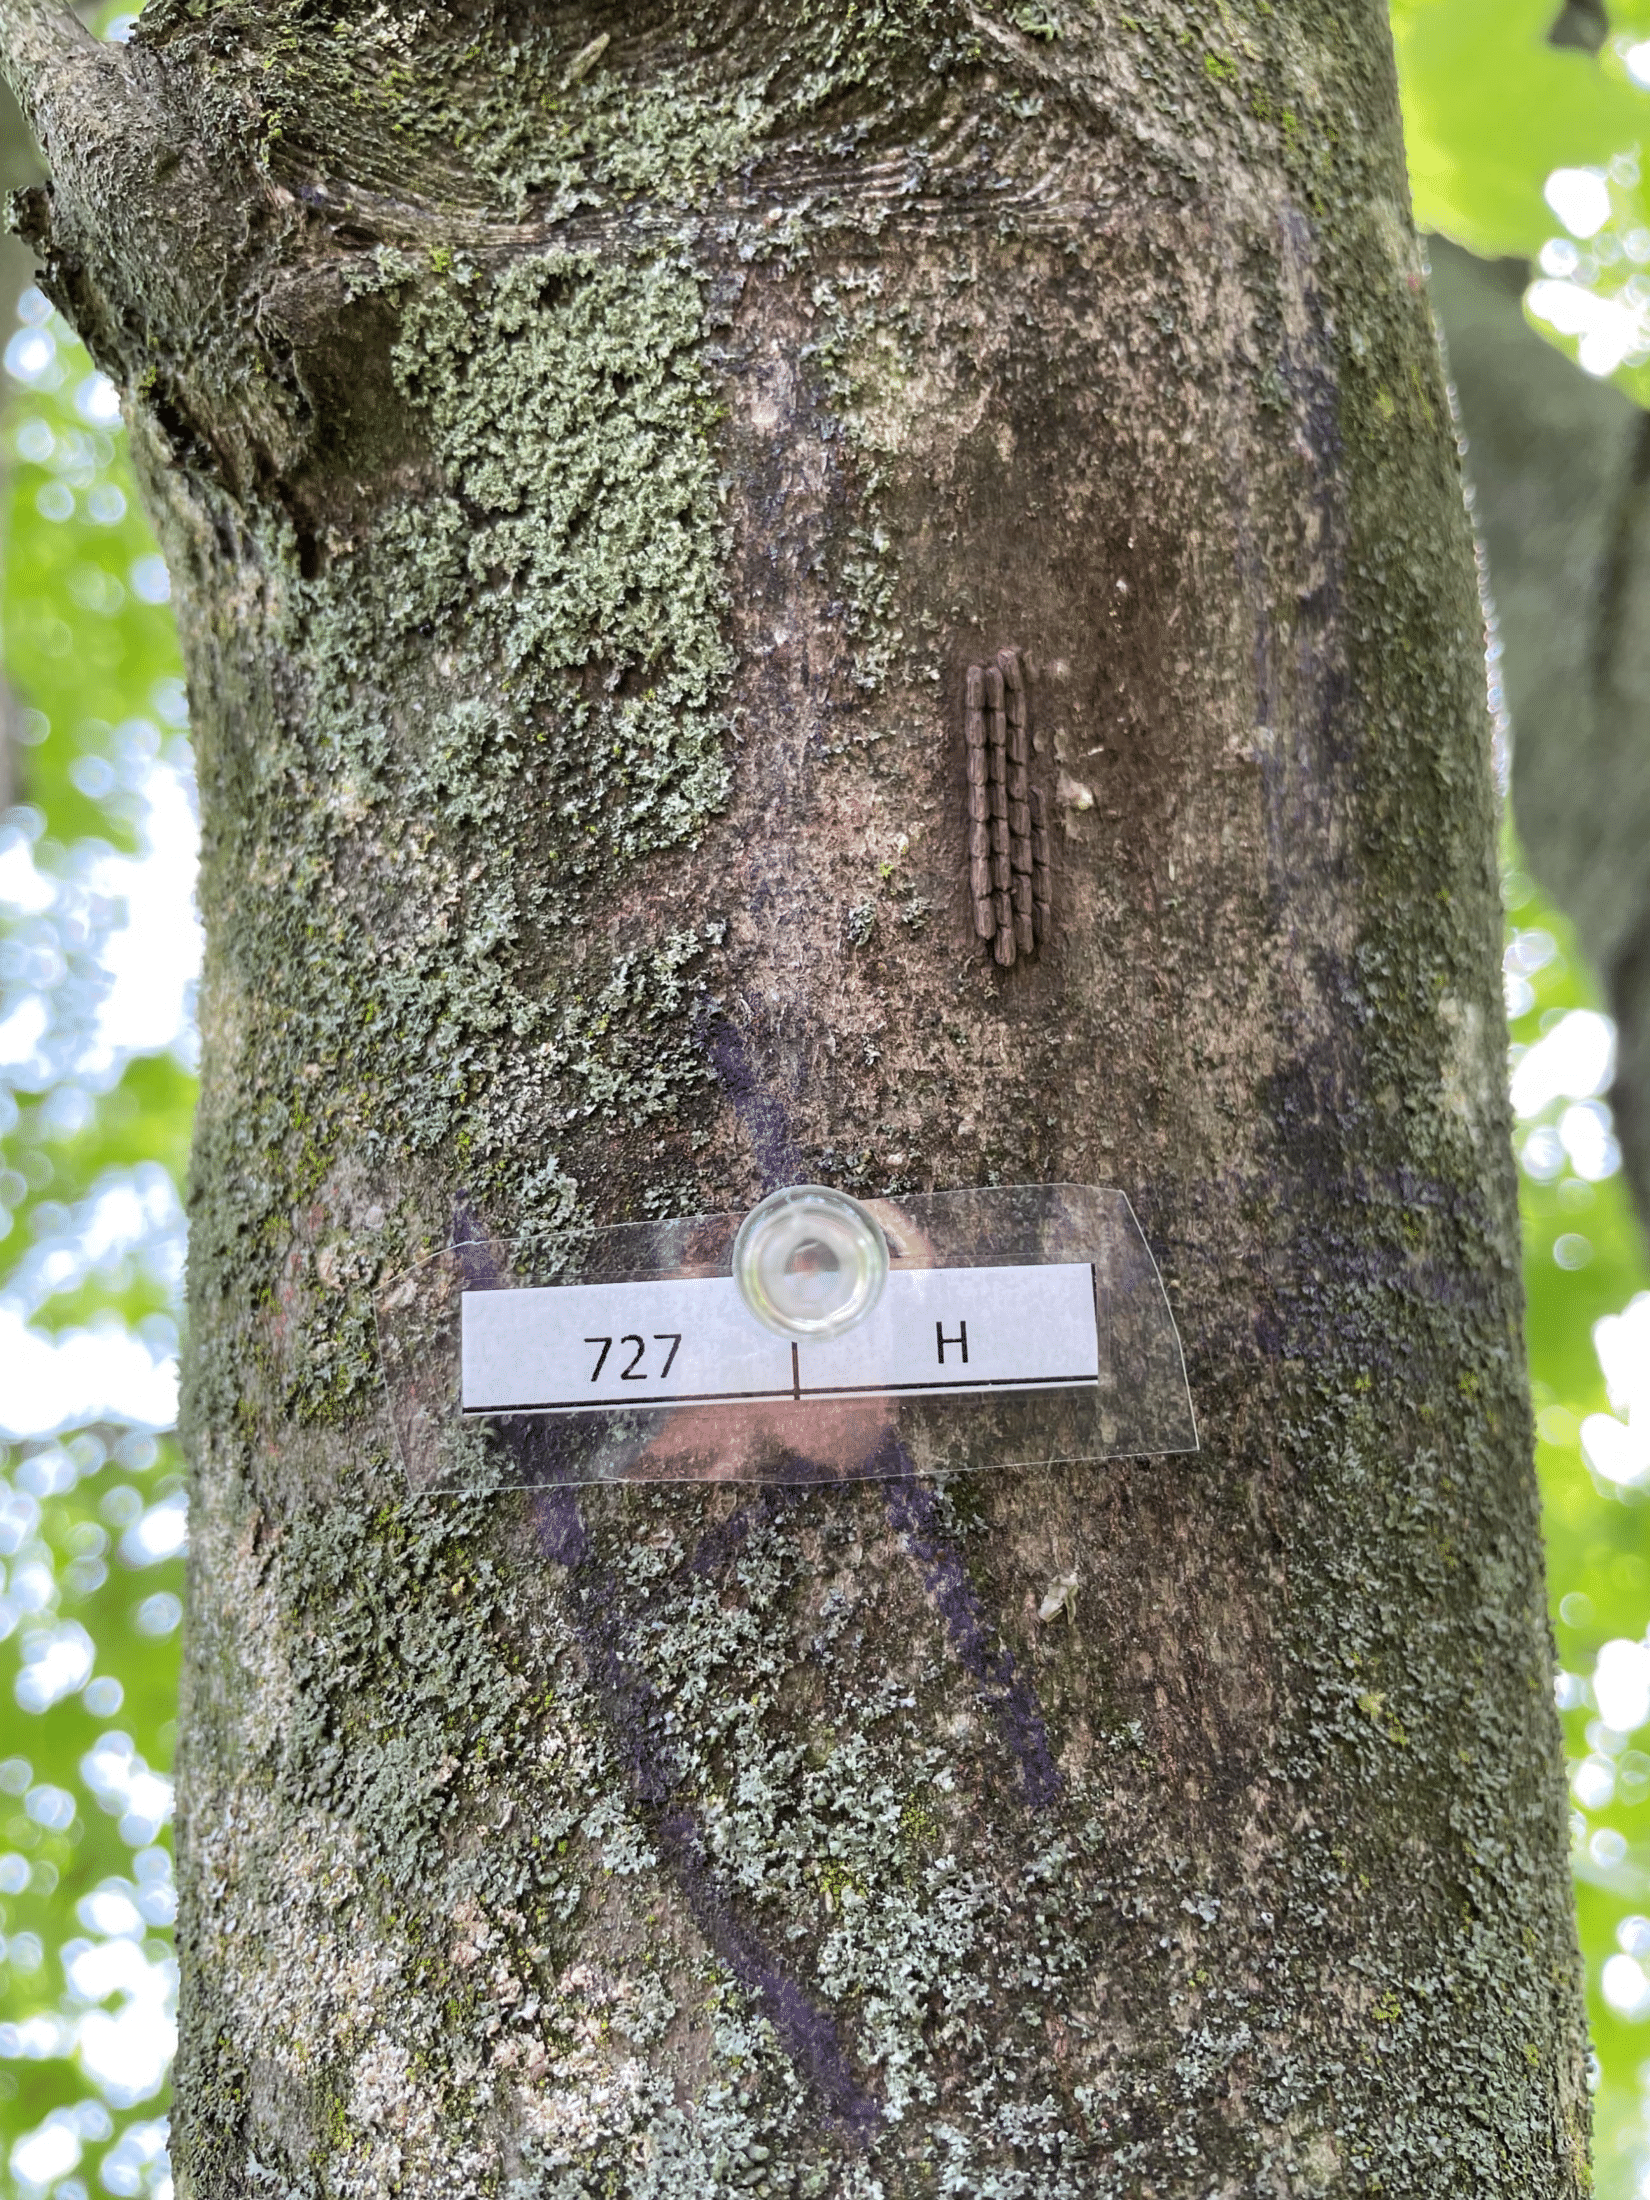egg masses: (952, 648, 1050, 986)
